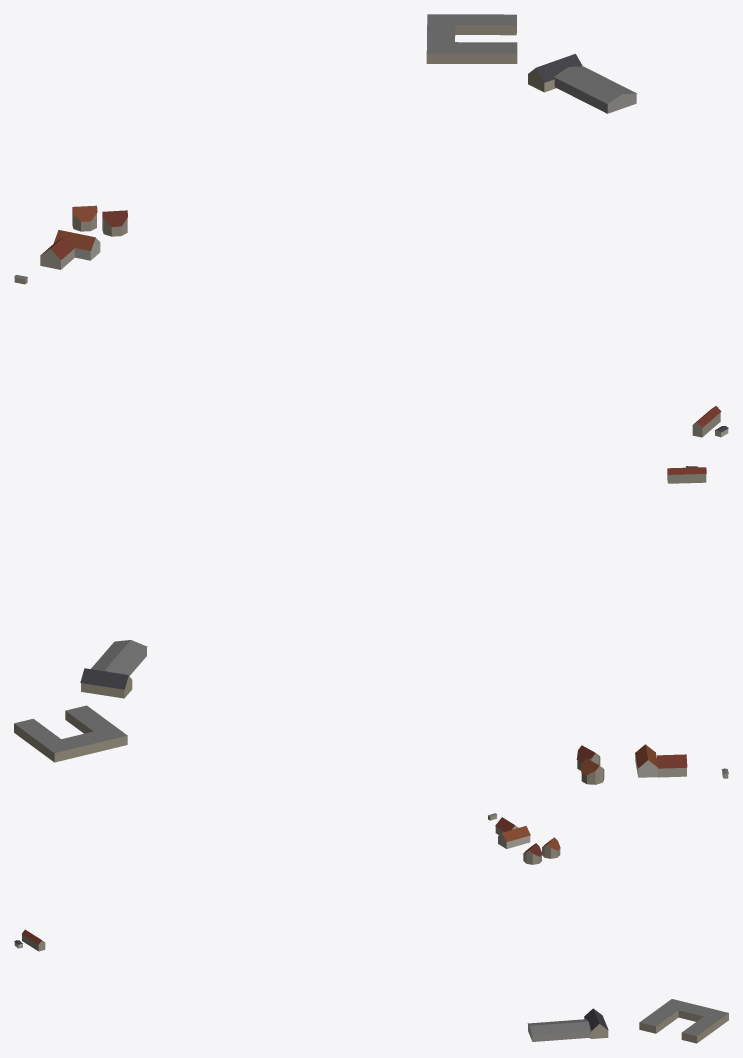
The picture shows the model from 3 angles, top to bottom: view 1: azimuth 30°, elevation 25°; view 2: azimuth 150°, elevation 25°; view 3: azimuth 270°, elevation 25°; orthographic projection. The views are drawn at different scales.
Visible parts, largest first — view 1: buildings; view 2: buildings; view 3: buildings.
Part boxes in pixels (<box>): buildings: <box>14,14,728,437</box>; buildings: <box>14,466,728,784</box>; buildings: <box>14,813,728,1043</box>.
Size of the model in its own units: 398 by 14.05 by 531.
